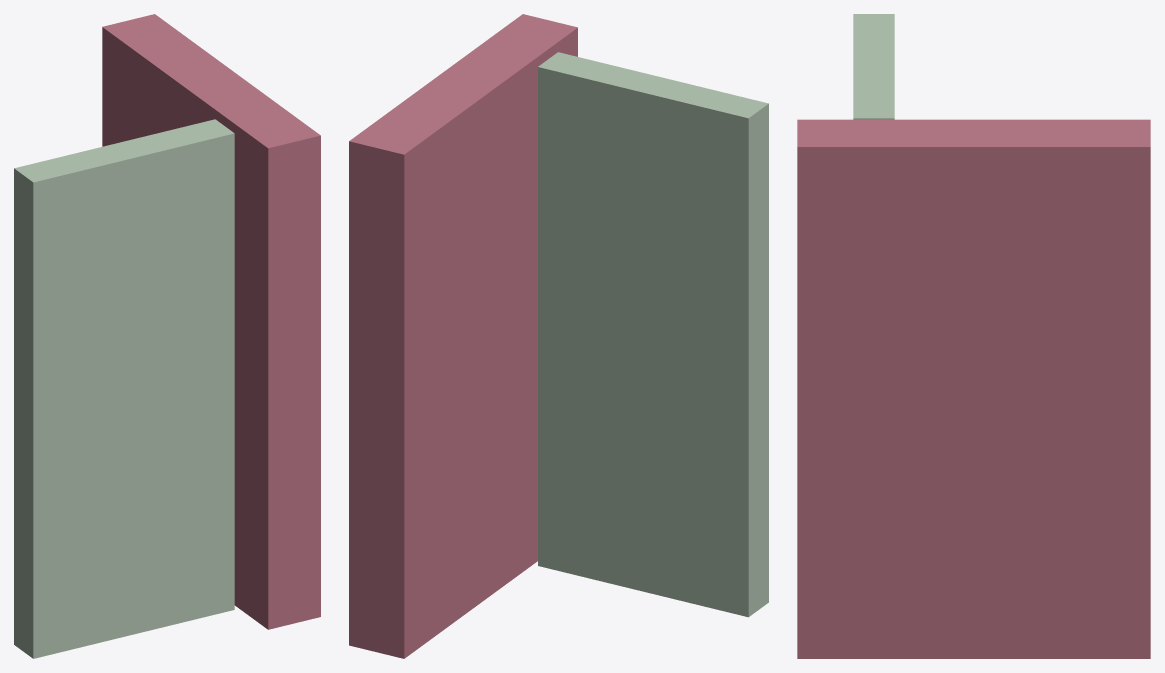
The model's file is 199543_pred.glb.
3 renders of one model, left to right at view 1: azimuth 30°, elevation 25°; view 2: azimuth 150°, elevation 25°; view 3: azimuth 270°, elevation 25°, orthographic. The views are drawn at different scales.
Parts seen in each view (by area): view 1: world; view 2: world; view 3: world.
Part boxes in pixels (<box>): world: <box>14,14,320,658</box>; world: <box>349,14,768,658</box>; world: <box>797,14,1150,658</box>.
Bounding box in the file's own units: 5.45 × 9.6 × 6.
